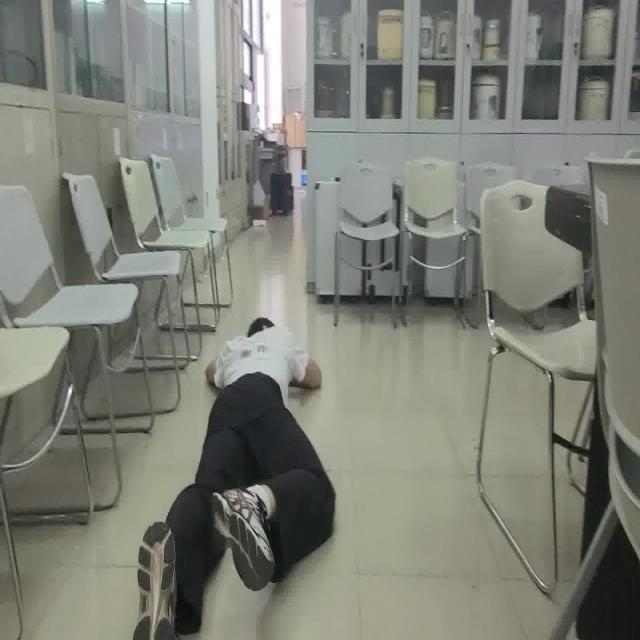Fall-Detected: (133, 308, 335, 640)
